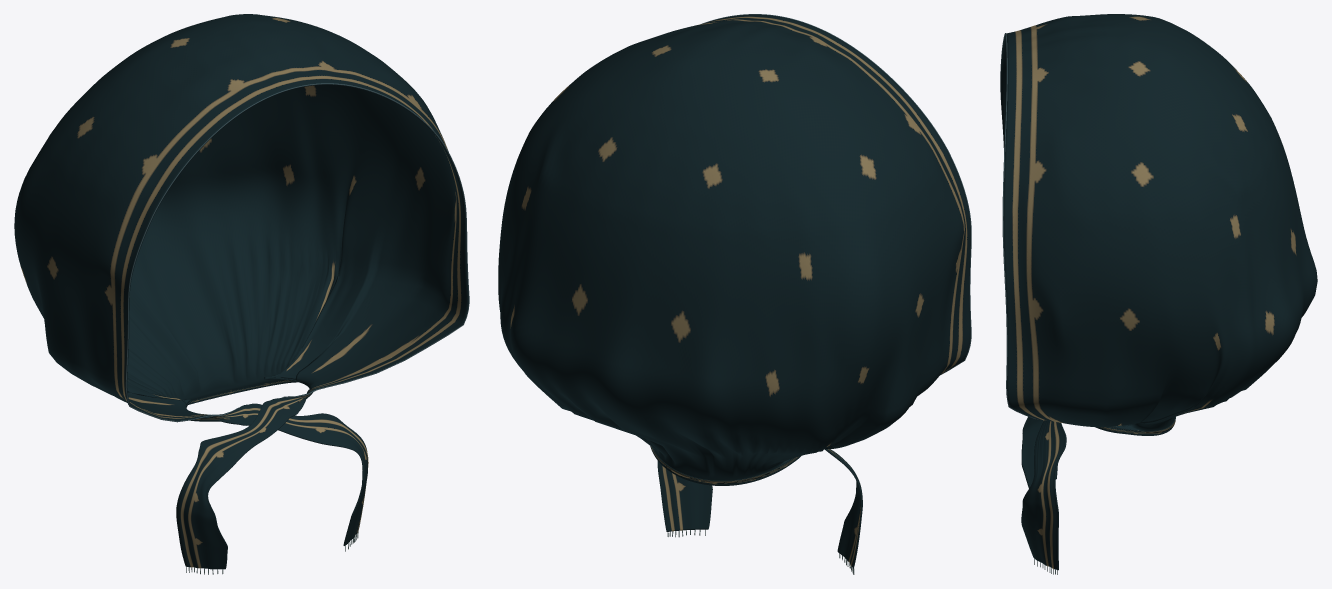
File: Feminine-bob-jersey-pashmina249-headgear.glb
3 views of the same model, side by side, from view 1: azimuth 30°, elevation 25°; view 2: azimuth 150°, elevation 25°; view 3: azimuth 270°, elevation 25° (orthographic). The views are drawn at different scales.
Visible parts, largest first — view 1: 226 headgear / Headwear / continuous woven pashmina239, 226 headgear / Headwear / face edge239; view 2: 226 headgear / Headwear / continuous woven pashmina239, 226 headgear / Headwear / face edge239; view 3: 226 headgear / Headwear / continuous woven pashmina239, 226 headgear / Headwear / face edge239.
Boxes of the visible parts, x1,y1,x2,y2 form: 226 headgear / Headwear / continuous woven pashmina239: [14, 14, 468, 569]; 226 headgear / Headwear / face edge239: [125, 83, 469, 422]; 226 headgear / Headwear / continuous woven pashmina239: [498, 14, 970, 568]; 226 headgear / Headwear / face edge239: [702, 14, 971, 374]; 226 headgear / Headwear / continuous woven pashmina239: [1000, 14, 1317, 570]; 226 headgear / Headwear / face edge239: [1000, 33, 1043, 420].
Size of the model in its own units: 1.08 by 1.41 by 0.806.
3 materials, 1 textured.
